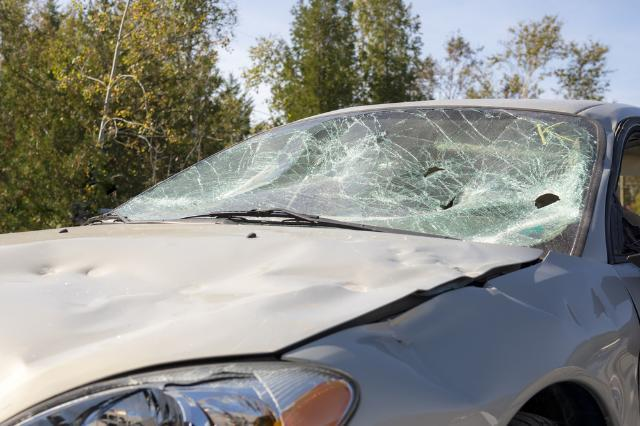dent: (16, 228, 512, 372), (361, 276, 640, 421), (27, 261, 61, 280), (77, 263, 112, 278)
glass shatter: (108, 106, 599, 254)
lamp broken: (0, 358, 361, 426)
